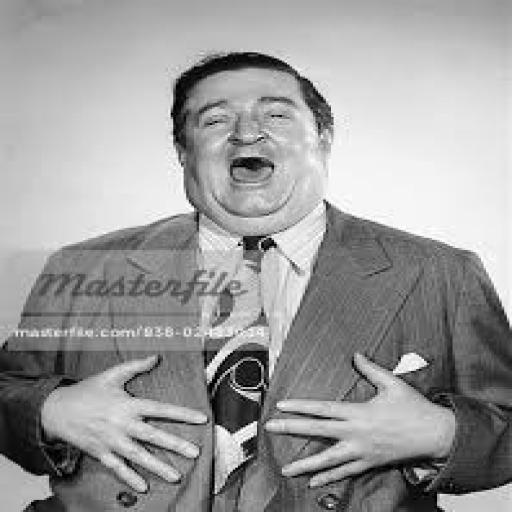laughing: (0, 42, 509, 509)
